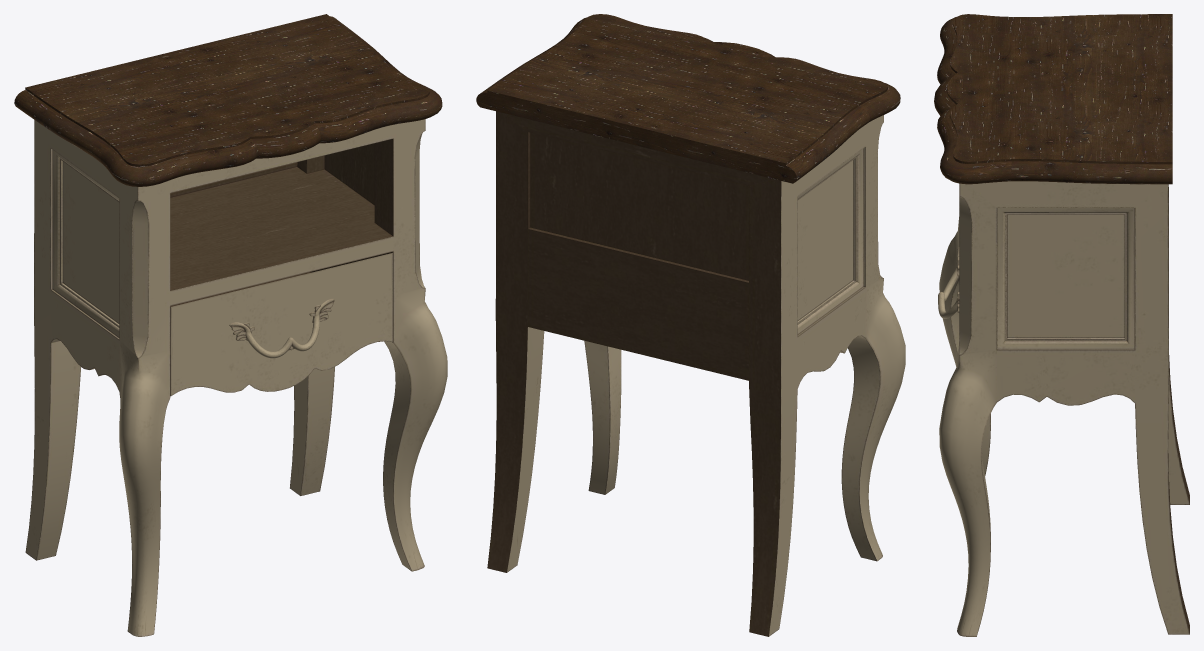
The model's file is example159.glb.
The picture shows the model from 3 angles, left to right: view 1: azimuth 30°, elevation 25°; view 2: azimuth 150°, elevation 25°; view 3: azimuth 270°, elevation 25°; orthographic projection.
Visible parts, largest first — view 1: Buffer Layer (×2); view 2: Buffer Layer (×2); view 3: Buffer Layer (×2).
Part boxes in pixels (<box>): Buffer Layer (×2): <box>14,14,447,636</box>; Buffer Layer (×2): <box>476,14,905,636</box>; Buffer Layer (×2): <box>934,14,1189,636</box>.
Size of the model in its own units: 0.52 by 0.7283 by 0.3539.
2 materials, 2 textured.
